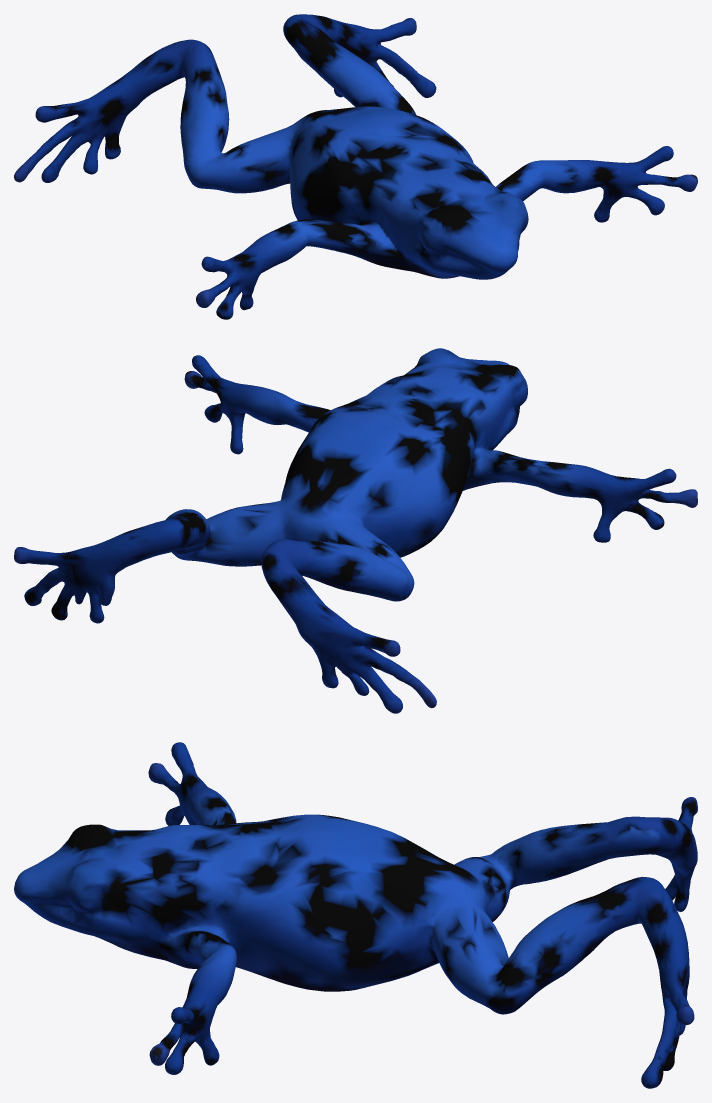
File: dartfrog.swim.glb
The picture shows the model from 3 angles, top to bottom: view 1: azimuth 30°, elevation 25°; view 2: azimuth 150°, elevation 25°; view 3: azimuth 270°, elevation 25°; orthographic projection. The views are drawn at different scales.
Parts seen in each view (by area): view 1: dartfrog.swim; view 2: dartfrog.swim; view 3: dartfrog.swim.
Part boxes in pixels (x1,y1,x2,y2): dartfrog.swim: (14, 14, 697, 319); dartfrog.swim: (14, 348, 697, 713); dartfrog.swim: (14, 742, 697, 1088).
Bounding box in the file's own units: 0.0612 × 0.0153 × 0.0616.
